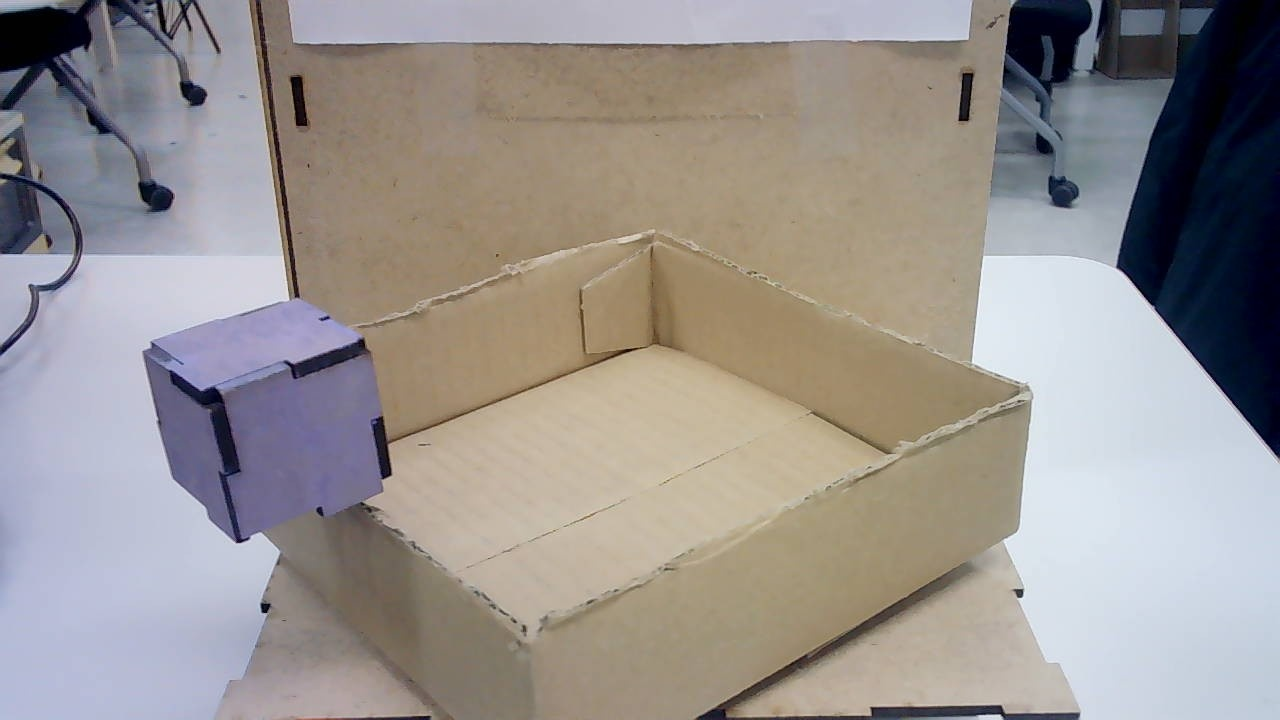pulple box: (146, 293, 395, 545)
